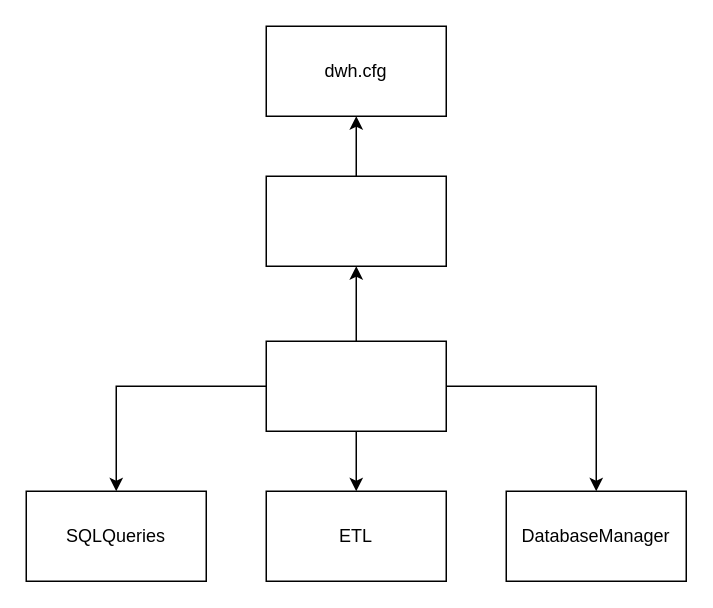
This 713x608 diagram has some shape labels left out. Here are the shapes that lost their labels. From the top down, the centre of each, then its label:
point (355, 220): Config Manager (config/)
point (355, 385): pipe
